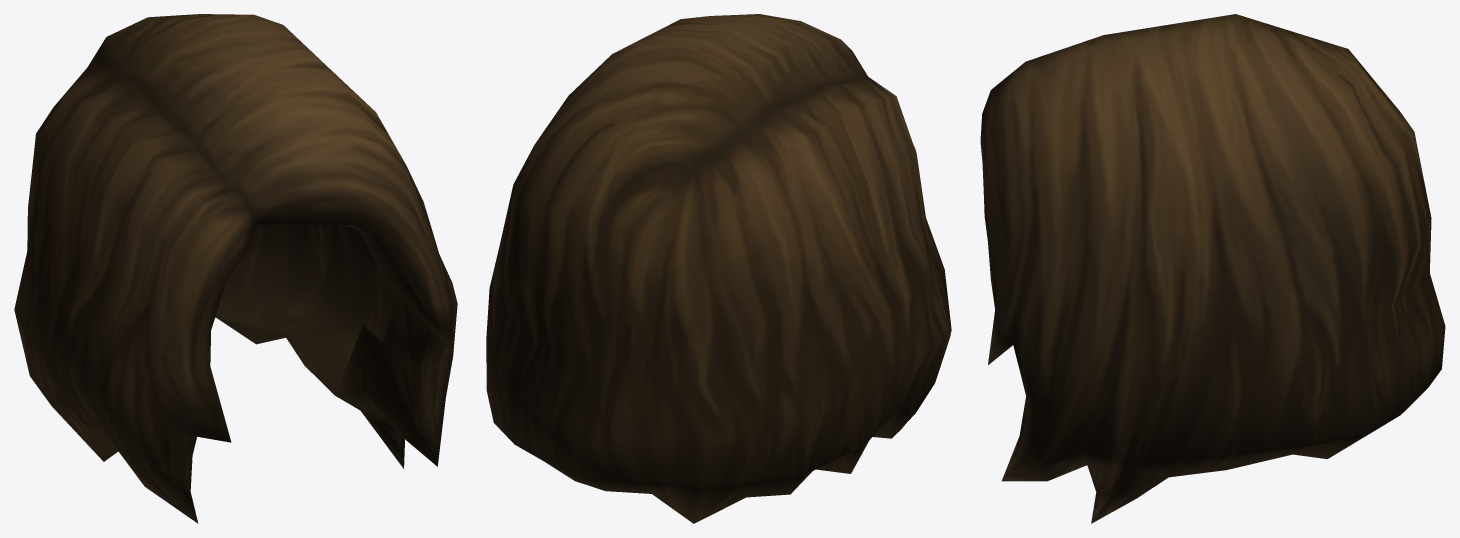
Rendered from F_jichuzhongfa01.FBX.
3 renders of one model, left to right at view 1: azimuth 30°, elevation 25°; view 2: azimuth 150°, elevation 25°; view 3: azimuth 270°, elevation 25°, orthographic. The views are drawn at different scales.
Visible parts, largest first — view 1: F_jichufaxing02; view 2: F_jichufaxing02; view 3: F_jichufaxing02.
Boxes of the visible parts, bbox=[...] form: F_jichufaxing02: bbox=[14, 14, 457, 523]; F_jichufaxing02: bbox=[486, 14, 951, 523]; F_jichufaxing02: bbox=[980, 14, 1445, 523].
Size of the model in its own units: 19.82 by 22.86 by 22.07.
1 material, 1 textured.
